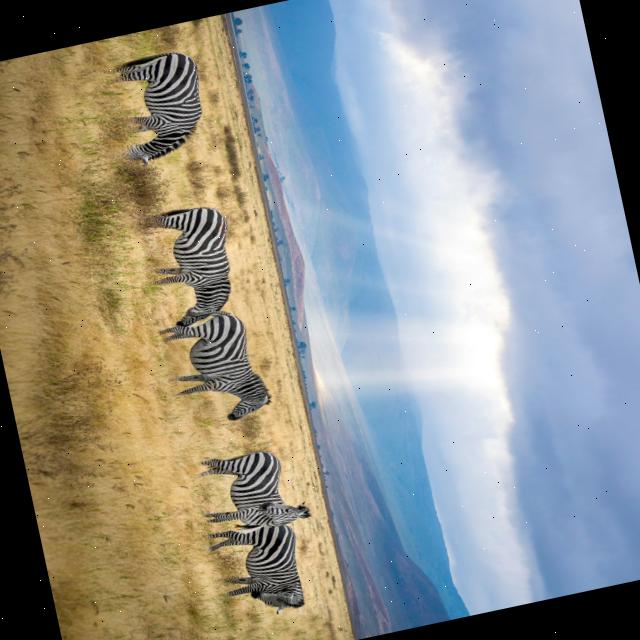Zebra: (156, 302, 275, 432), (139, 200, 245, 332), (102, 46, 214, 169), (190, 440, 312, 541), (207, 516, 310, 626)
